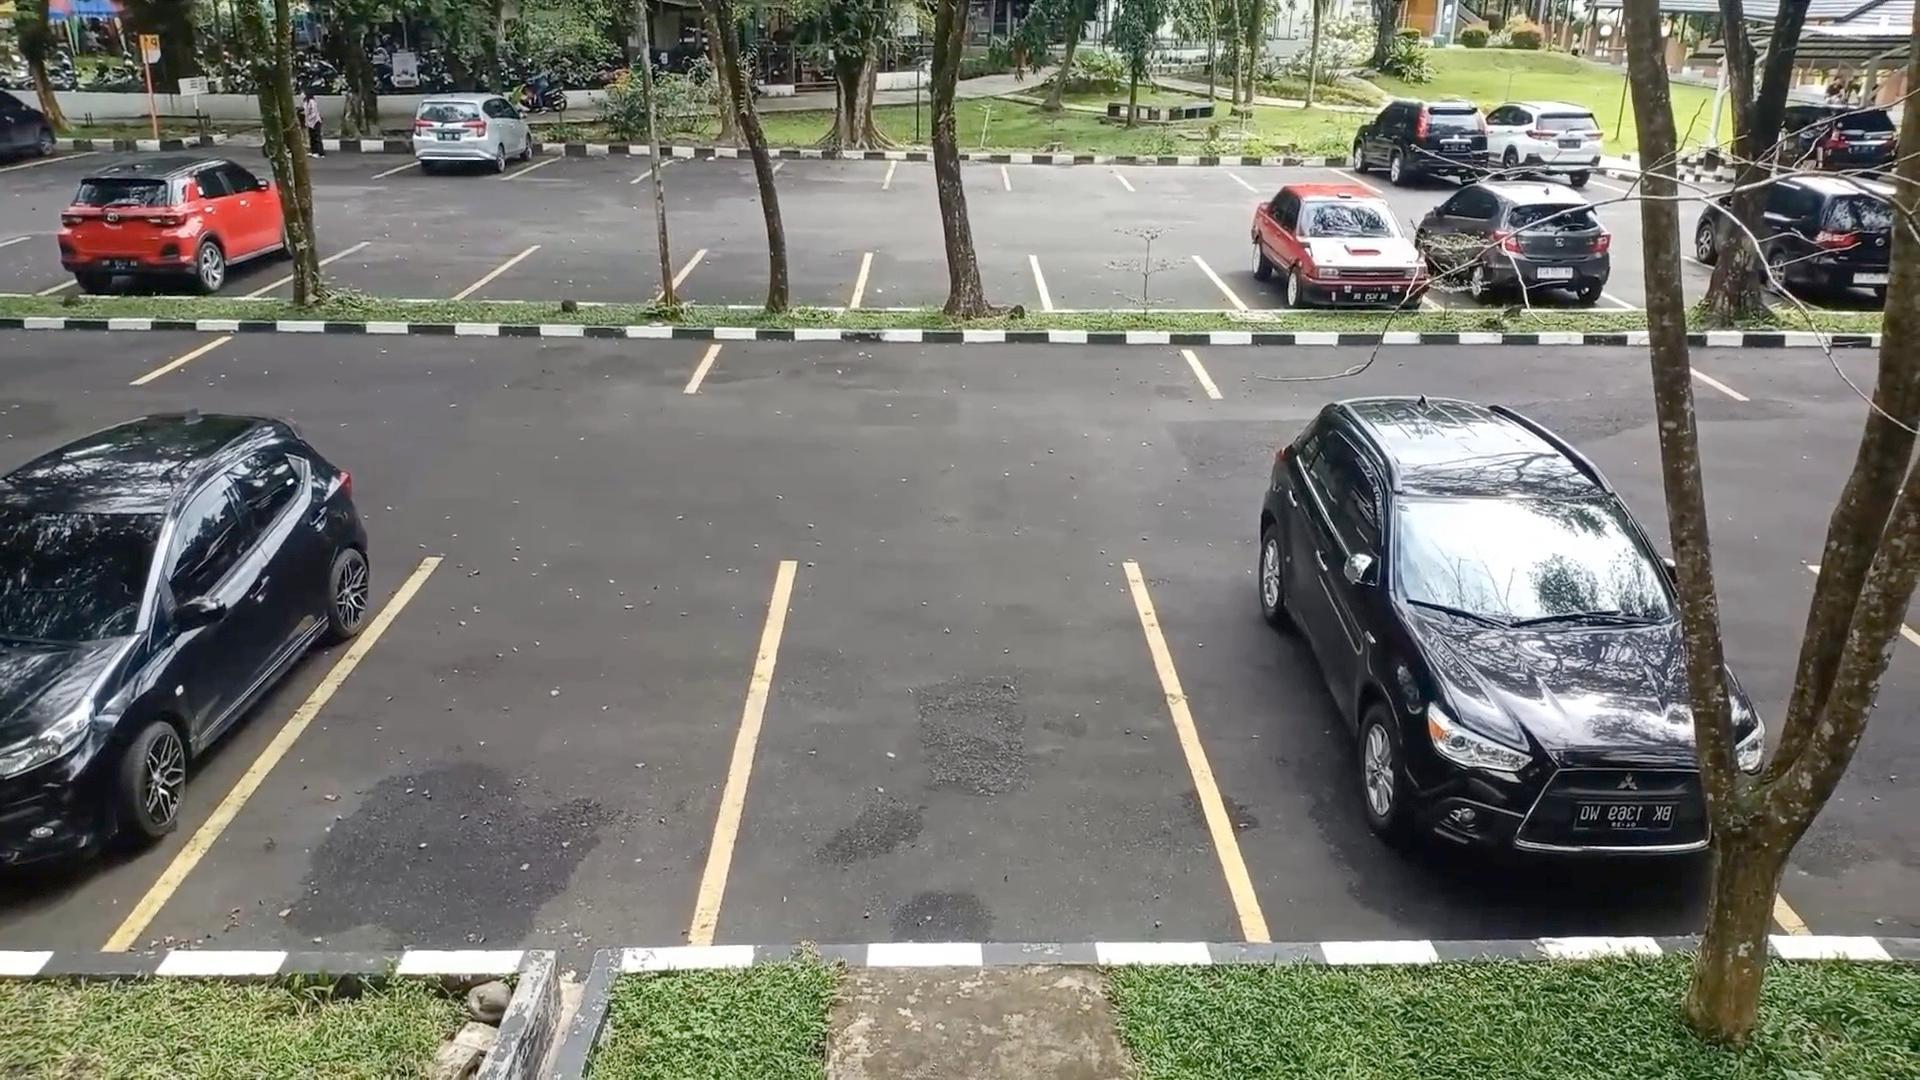empty: (758, 530, 1199, 938), (345, 538, 761, 940), (183, 324, 706, 396), (705, 337, 1213, 396), (1031, 242, 1234, 308), (488, 242, 682, 306), (862, 250, 1040, 309), (310, 240, 489, 298), (684, 253, 864, 309), (535, 131, 656, 183), (886, 149, 1011, 195), (1126, 154, 1252, 196), (1004, 151, 1125, 194), (773, 147, 891, 190)
occupied: (1202, 522, 1710, 938), (0, 498, 339, 948), (62, 169, 297, 302), (1232, 202, 1436, 307), (406, 110, 532, 180)
